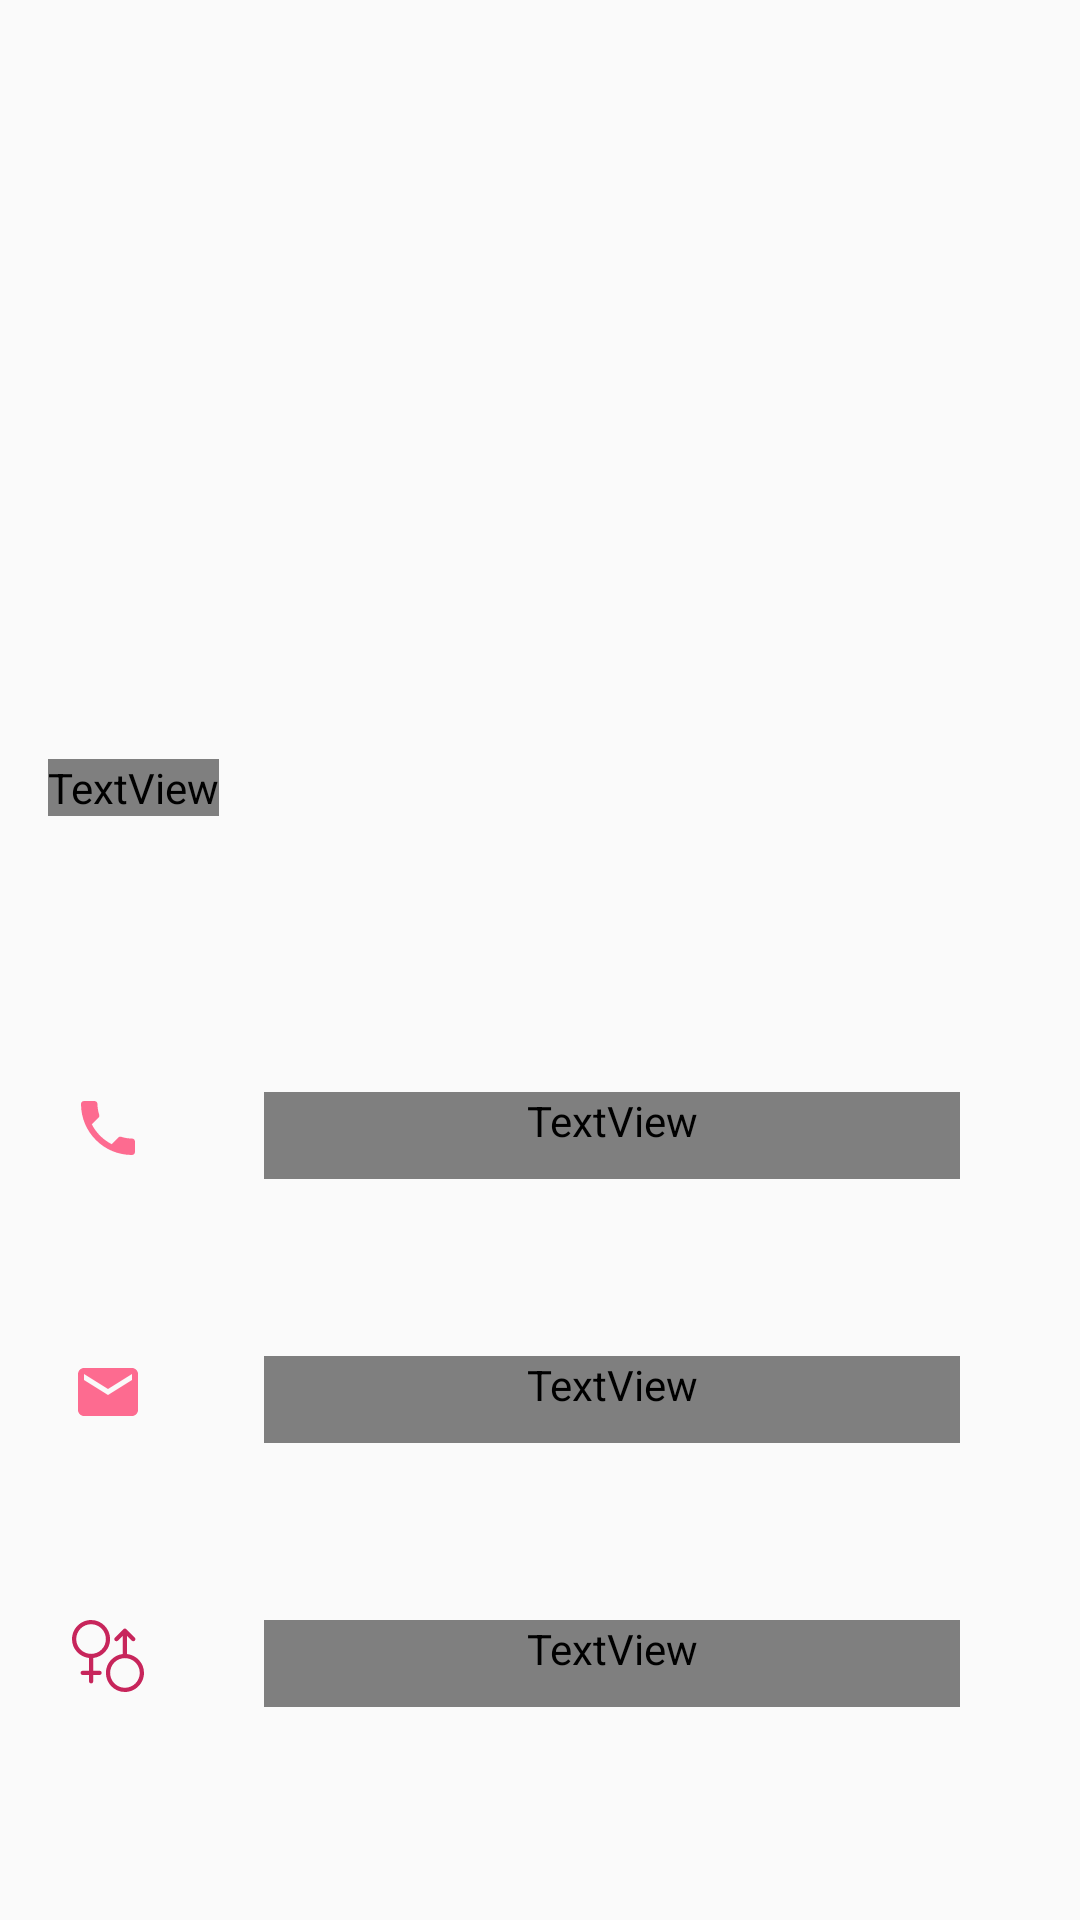

Screen size 1080×1920. Icon name, then its center in pixels as point (x, y):
email: point (108, 1392)
male and female: point (108, 1656)
phone: point (108, 1128)
